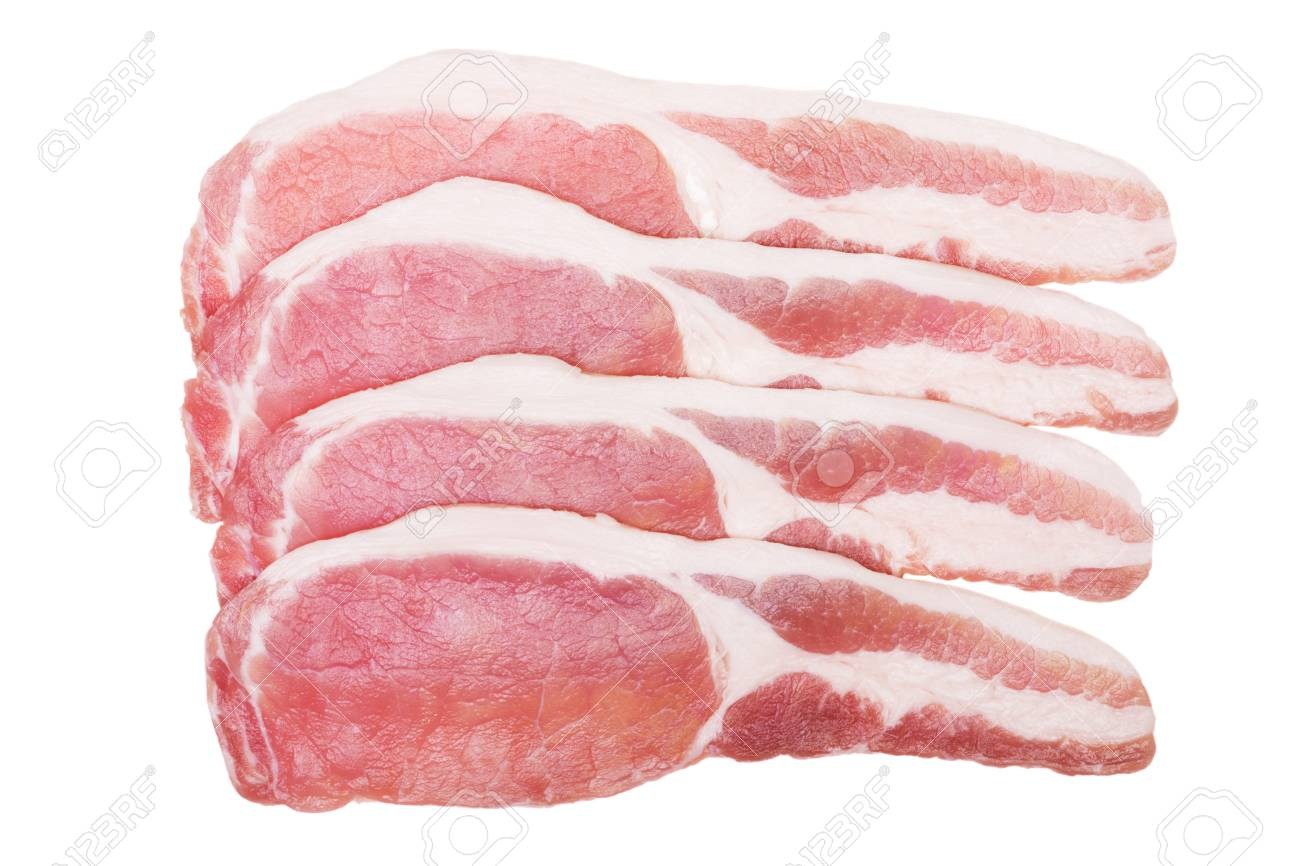bacon: (143, 65, 1185, 826)
